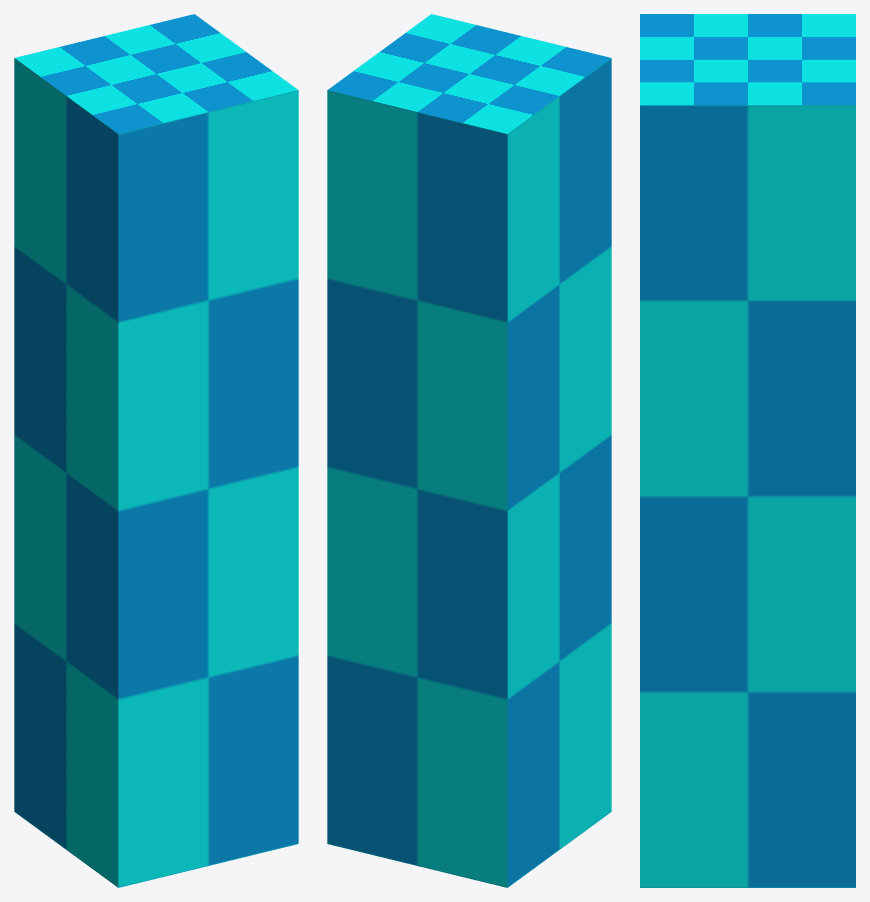
The model's file is TangentTestNonAnimation.fbx.
3 views of the same model, side by side, from view 1: azimuth 30°, elevation 25°; view 2: azimuth 150°, elevation 25°; view 3: azimuth 270°, elevation 25° (orthographic). The views are drawn at different scales.
Parts seen in each view (by area): view 1: pCube1; view 2: pCube1; view 3: pCube1.
Part boxes in pixels (x1,y1,x2,y2): pCube1: [14, 14, 298, 887]; pCube1: [327, 14, 611, 887]; pCube1: [640, 14, 855, 887].
Size of the model in its own units: 2 by 8 by 2.
